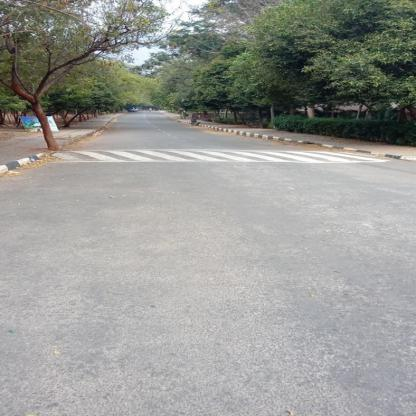speed-bumps: (37, 142, 397, 168)
